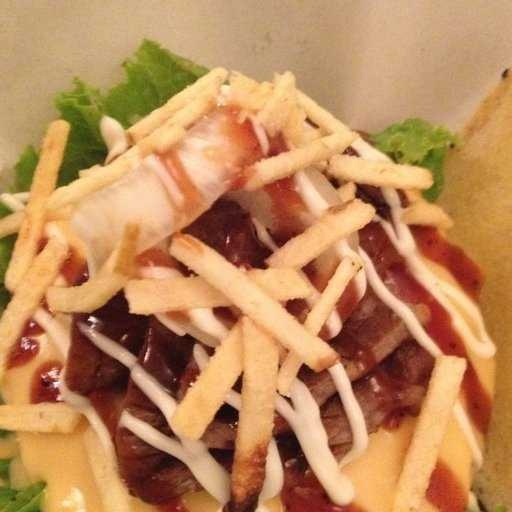hamburger: (1, 65, 431, 503)
